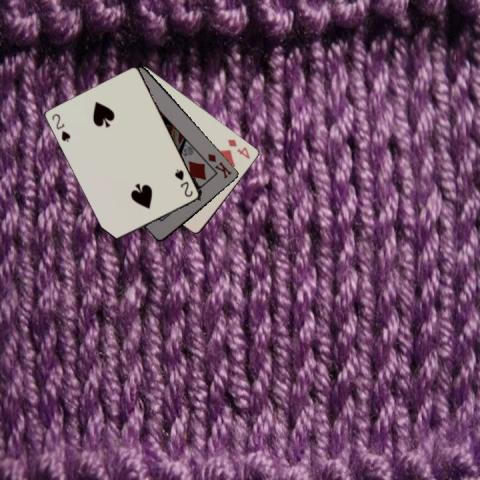2s: (49, 111, 72, 144), (172, 166, 194, 199)
4d: (225, 136, 251, 161)
Kd: (205, 151, 233, 180)
